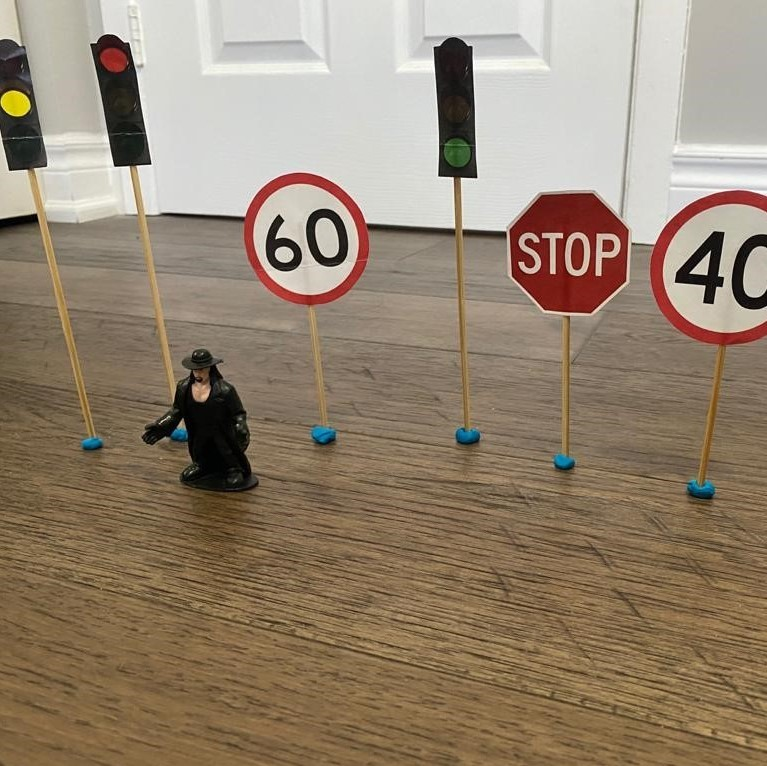Green Traffic Light: (428, 38, 481, 185)
Person: (139, 346, 264, 501)
Red Traffic Light: (84, 30, 154, 174)
Speed Limit 60: (240, 169, 372, 324)
Stop Sign: (502, 185, 637, 322)
